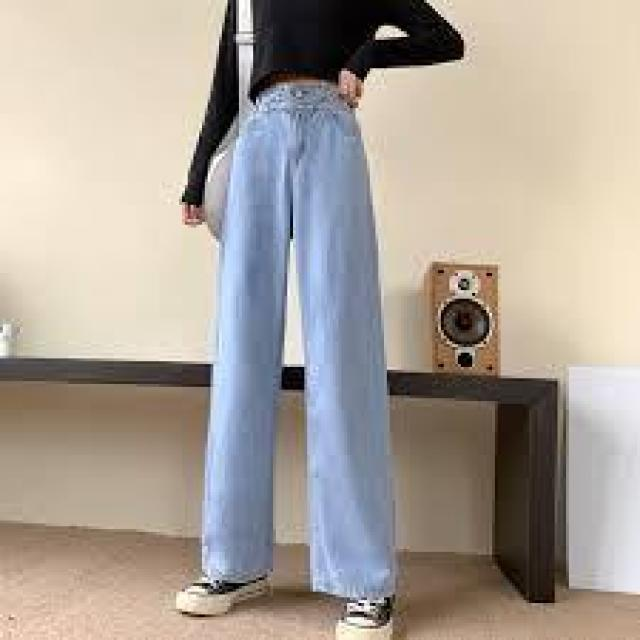pants: (209, 88, 388, 603)
